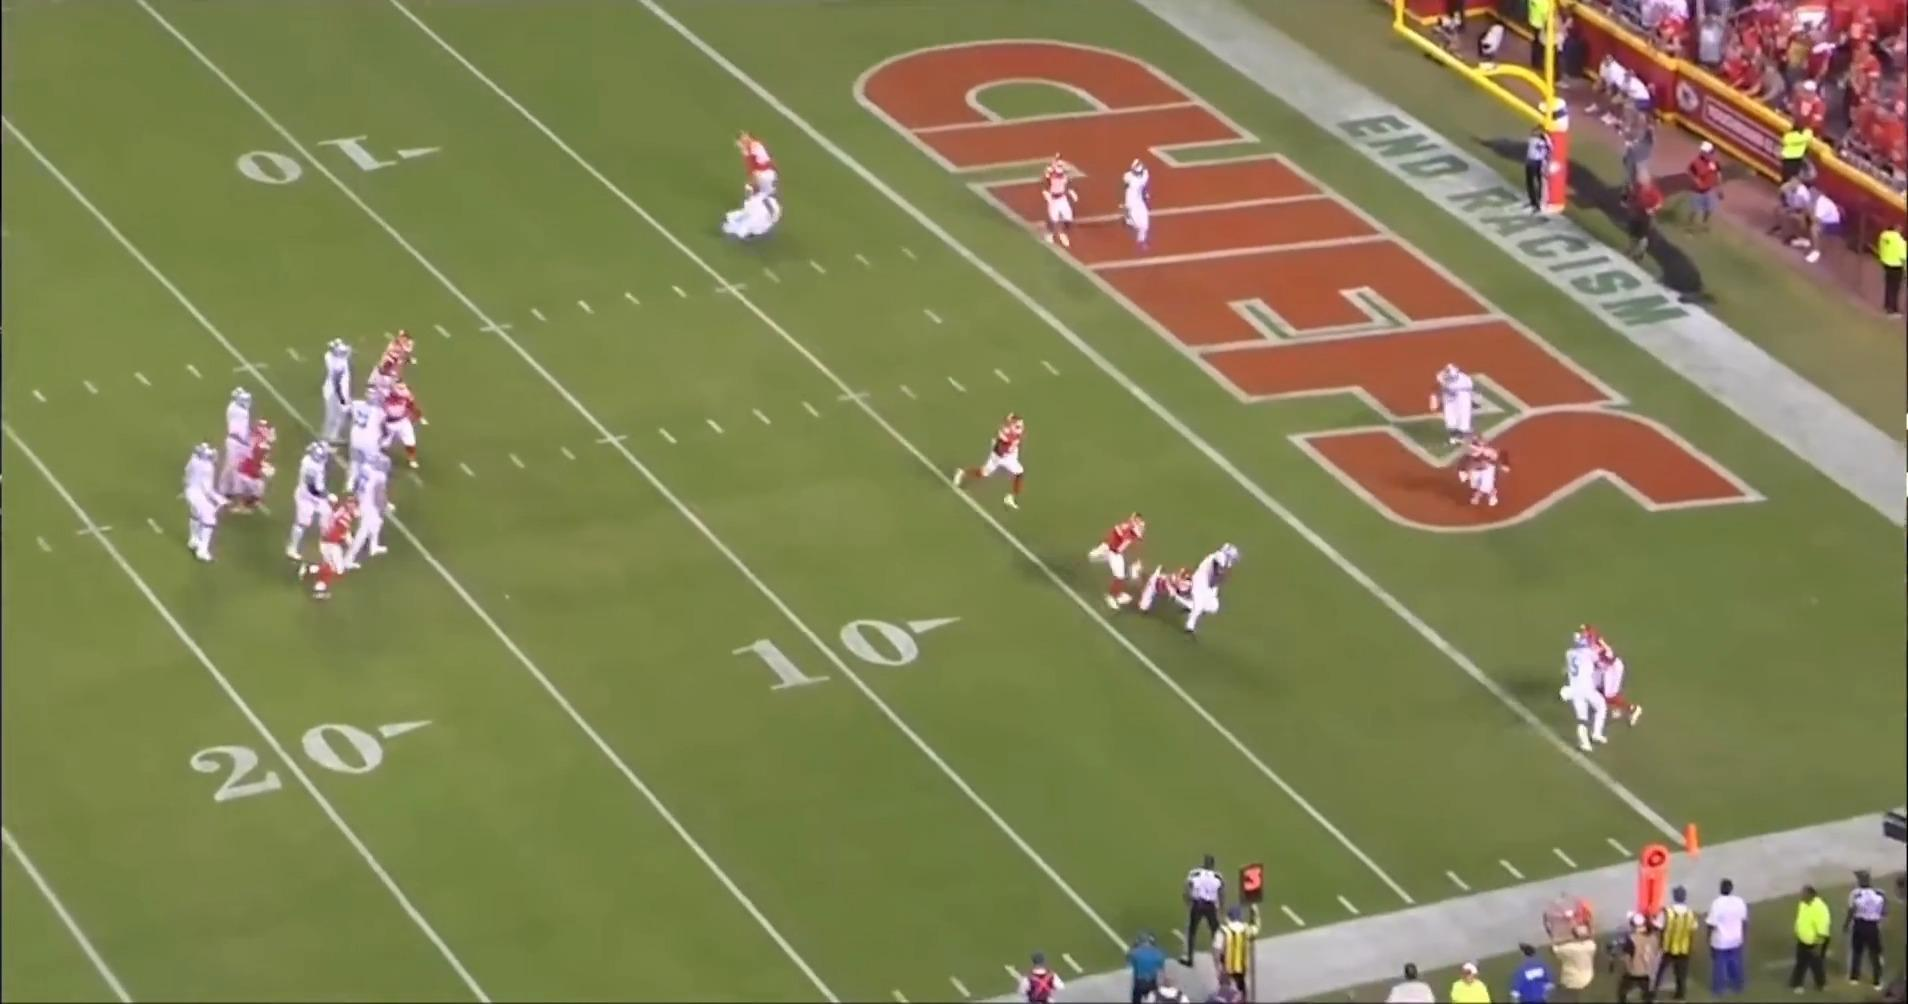defense: (1575, 618, 1651, 732), (946, 414, 1026, 515), (1093, 515, 1156, 616), (305, 496, 363, 604), (217, 419, 278, 517), (381, 373, 430, 481), (1126, 566, 1198, 634), (1044, 154, 1092, 252), (1454, 438, 1512, 518), (721, 132, 781, 197), (371, 322, 423, 395)
oline: (341, 387, 399, 520), (286, 441, 342, 579), (179, 443, 235, 570), (343, 453, 391, 574), (318, 334, 361, 452)
qb: (226, 383, 257, 443)
ref: (1180, 850, 1242, 972), (1518, 119, 1560, 226)
skill: (1561, 637, 1611, 769), (1431, 362, 1499, 459), (1184, 541, 1244, 638), (1110, 156, 1152, 256), (718, 190, 790, 245)
